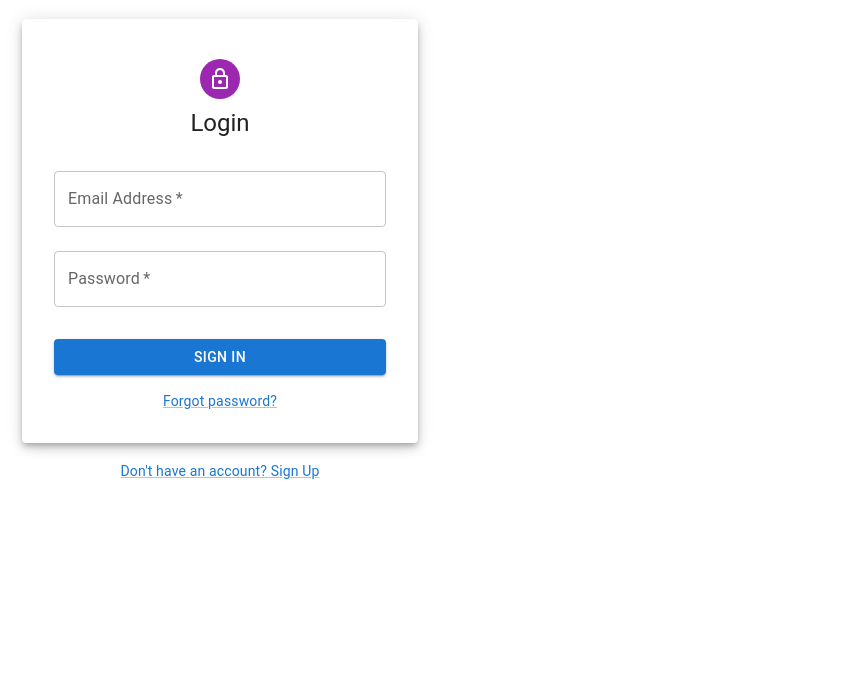
Test: SignIn Page › displays validation error when email is missing
Type "password123" into the password field labelled "Password *".
click(220, 279); type("password123")  # box [54,251,386,307]
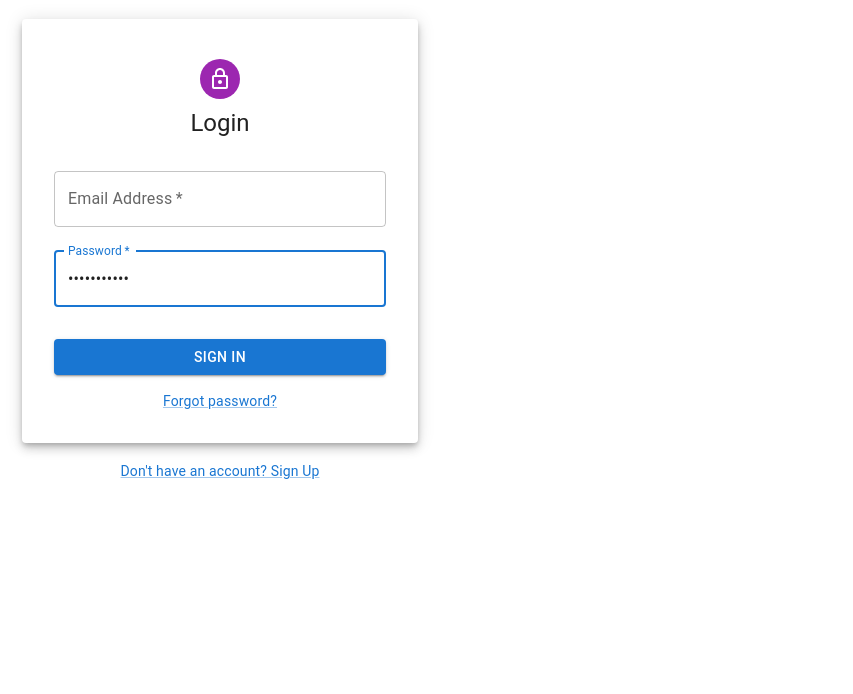
Click the button "Sign In".
click(220, 357)  # box [54,339,386,375]
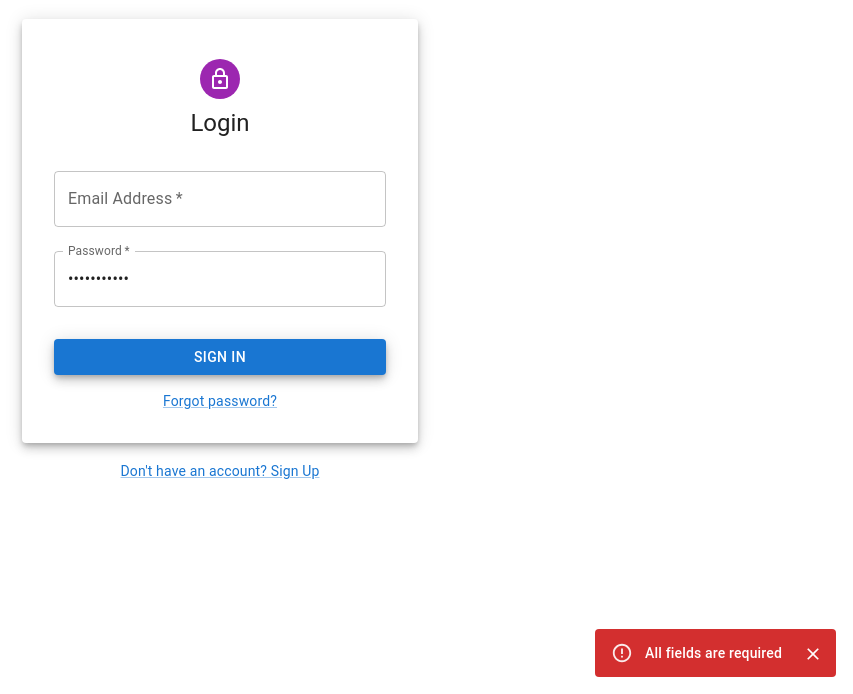
Expected: the text "All fields are required" is shown, [645,645,782,661]
